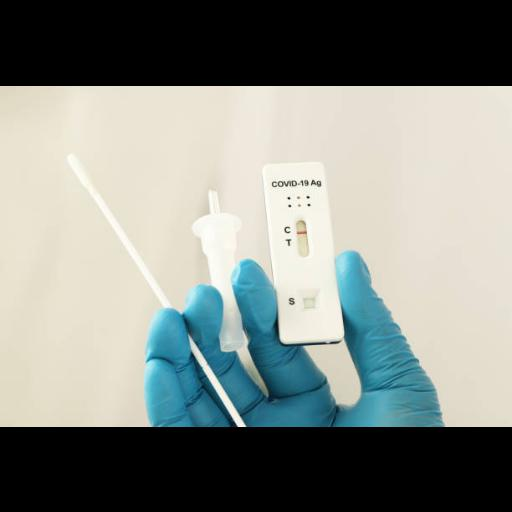Neg: (261, 160, 345, 340)
